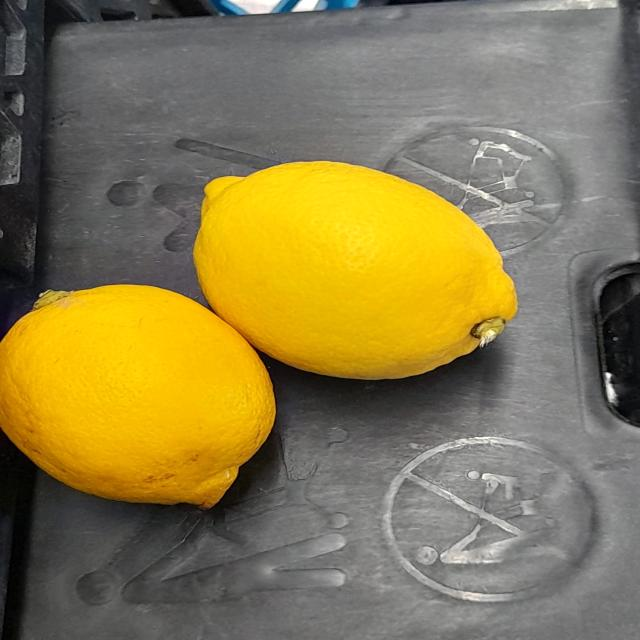lemon: (184, 152, 530, 390), (0, 285, 292, 518)
